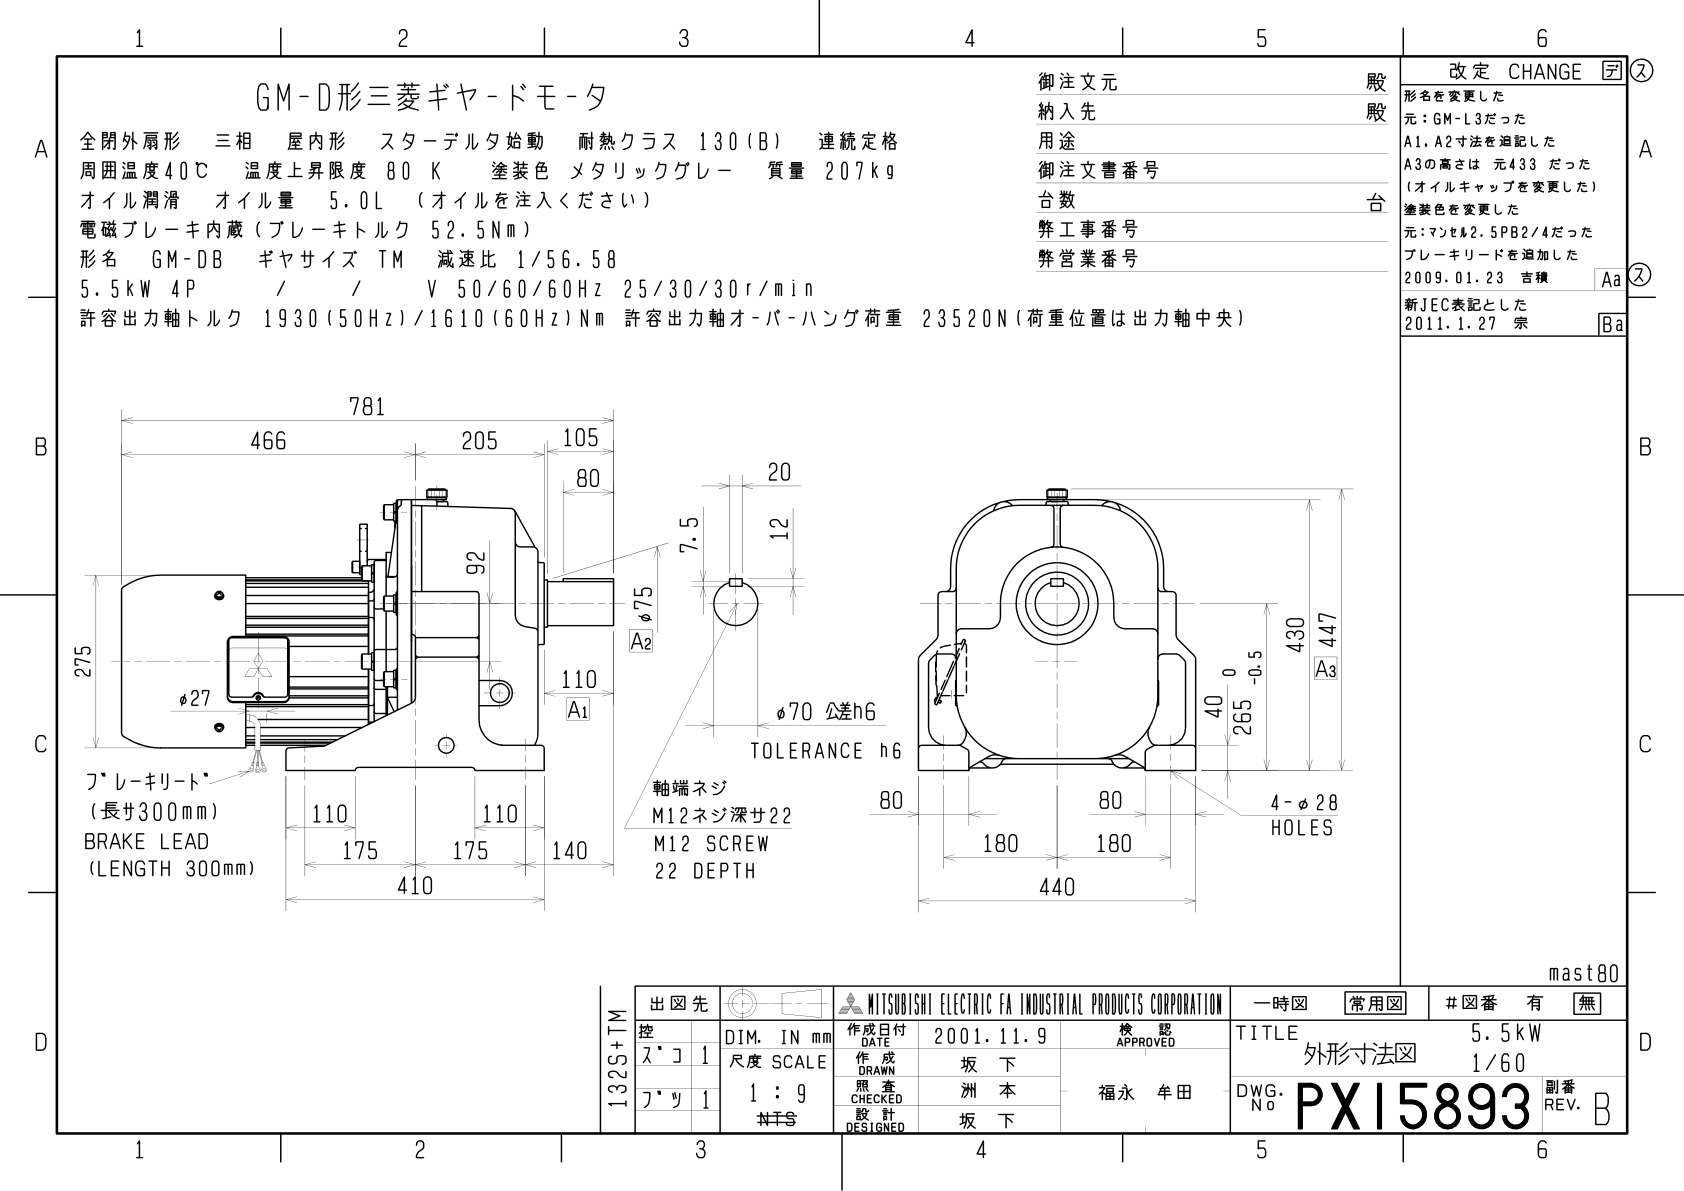GM_D_屋内＿三相_脚: (71, 353, 1371, 944)
